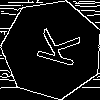K: (27, 24, 81, 69)
